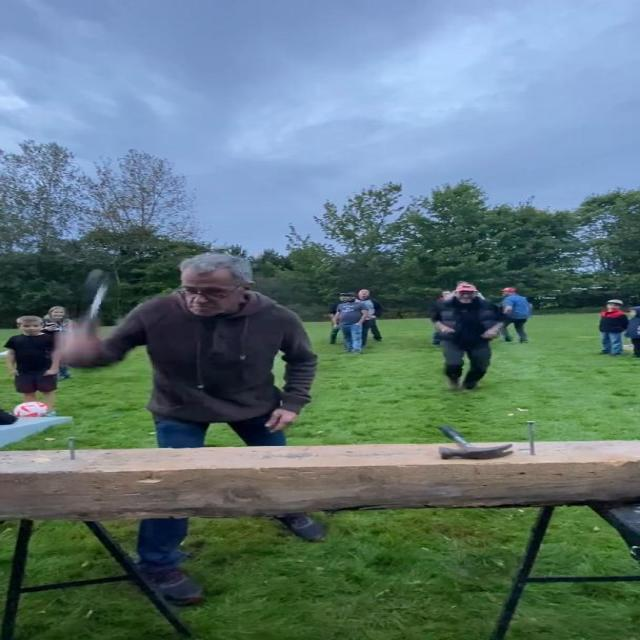hammer: (438, 426, 514, 460)
